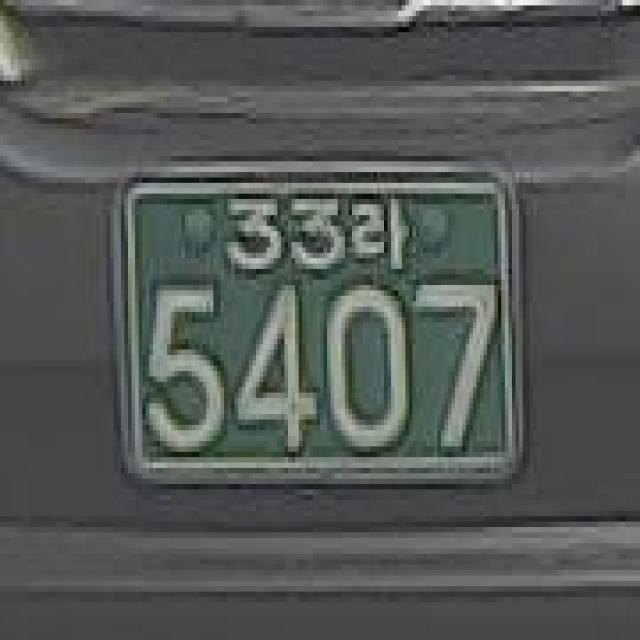illegal_plate: (99, 150, 539, 511)
